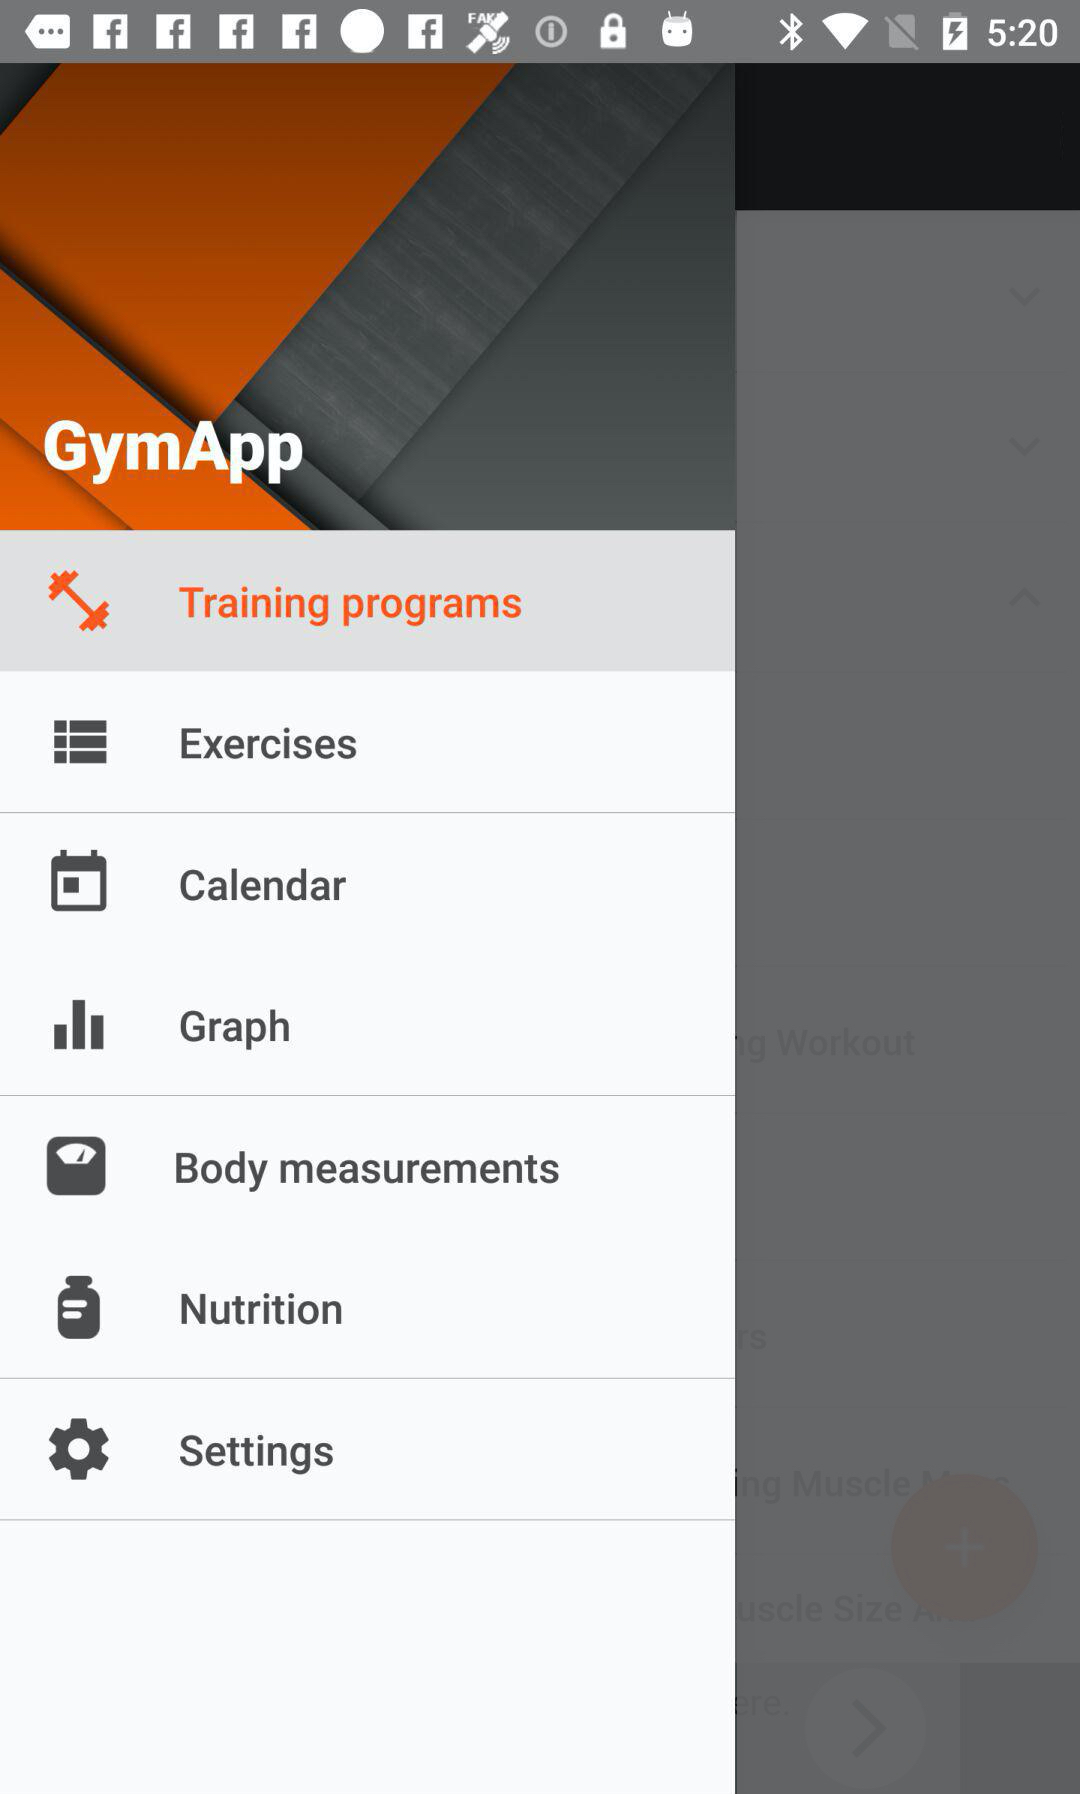Drawer: (1, 64, 735, 1788)
Icon: (47, 1417, 111, 1481), (50, 850, 109, 912), (54, 1000, 106, 1051), (53, 719, 109, 765)
Image: (47, 568, 111, 634), (46, 1137, 108, 1196), (56, 1275, 102, 1340)
Text: (44, 420, 305, 486), (176, 1149, 561, 1193), (176, 586, 523, 628), (179, 1434, 334, 1476), (181, 727, 357, 761), (179, 1290, 345, 1326), (179, 868, 348, 902), (179, 1008, 291, 1051)
UpperTaskBar: (1, 1, 1080, 64)
